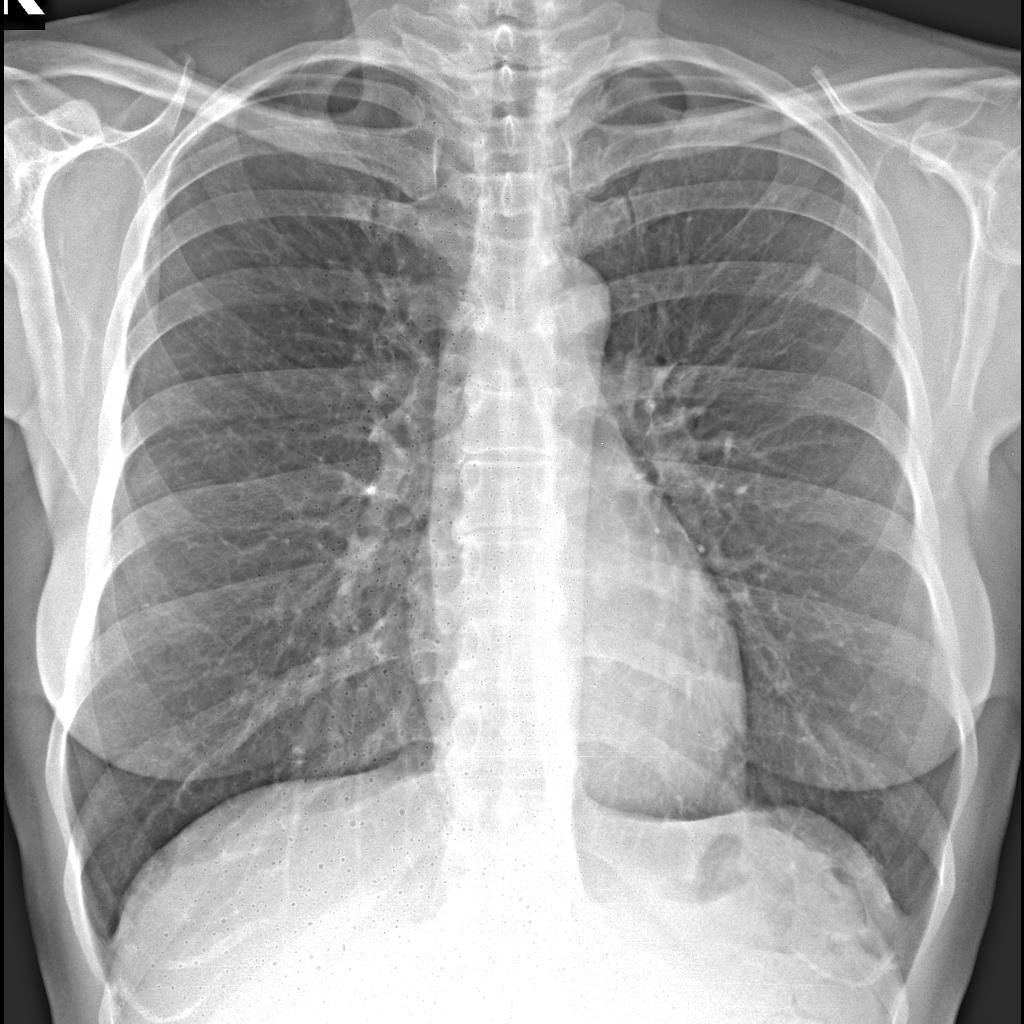Nodule: (796, 251, 829, 294)
